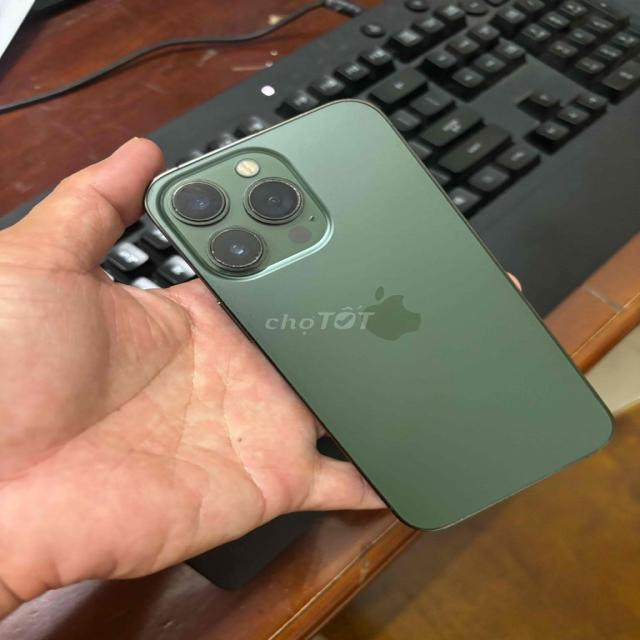gen_12_13: (143, 93, 620, 534)
